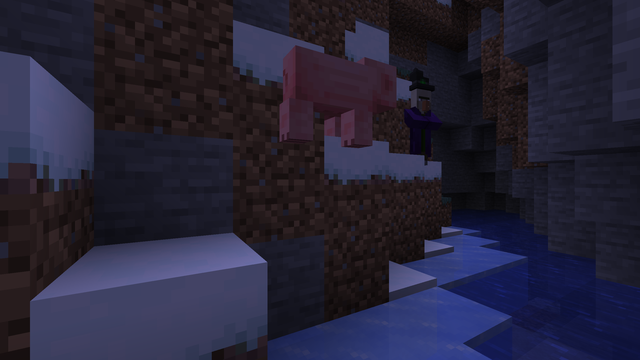cochons: (287, 36, 381, 149)
sorcieres: (407, 83, 433, 164)
